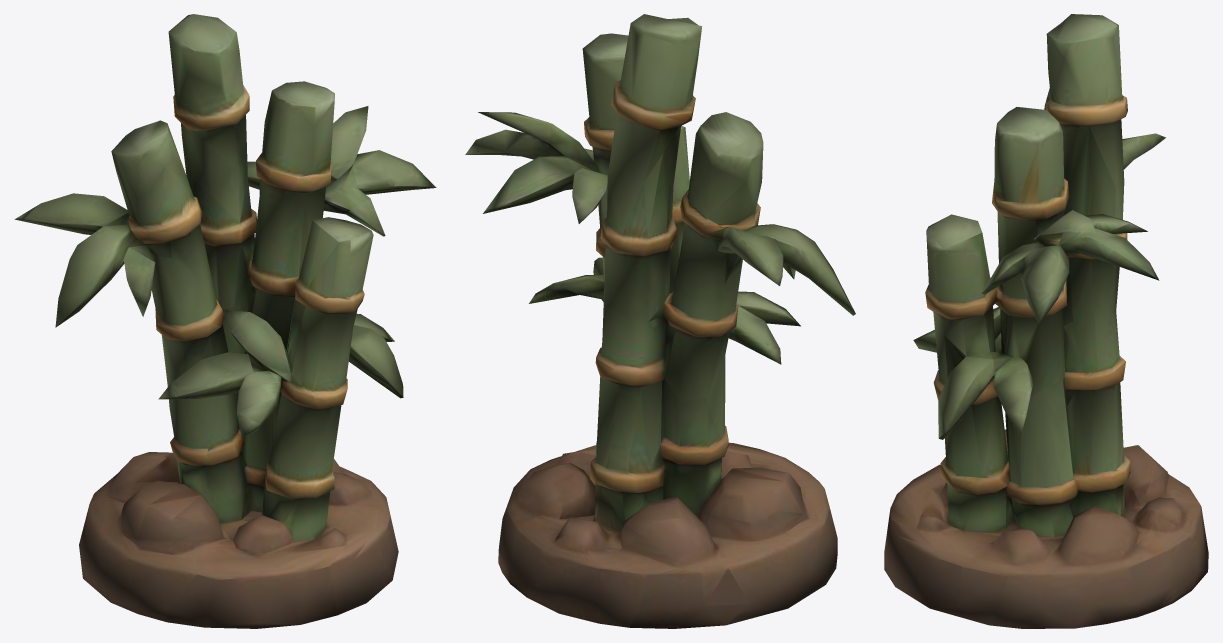
Rendered from bamboo.glb.
3 views of the same model, side by side, from view 1: azimuth 30°, elevation 25°; view 2: azimuth 150°, elevation 25°; view 3: azimuth 270°, elevation 25° (orthographic). The views are drawn at different scales.
Parts seen in each view (by area): view 1: tripo_node_5d030c4d-0001-4d0c-980f-95713791a7ea; view 2: tripo_node_5d030c4d-0001-4d0c-980f-95713791a7ea; view 3: tripo_node_5d030c4d-0001-4d0c-980f-95713791a7ea.
Boxes of the visible parts, x1=… form: tripo_node_5d030c4d-0001-4d0c-980f-95713791a7ea: x1=14, y1=14, x2=436, y2=628; tripo_node_5d030c4d-0001-4d0c-980f-95713791a7ea: x1=465, y1=14, x2=855, y2=628; tripo_node_5d030c4d-0001-4d0c-980f-95713791a7ea: x1=884, y1=14, x2=1208, y2=628.
Size of the model in its own units: 0.7301 by 0.9793 by 0.5423.
Materials: 1 (1 with a texture image).
